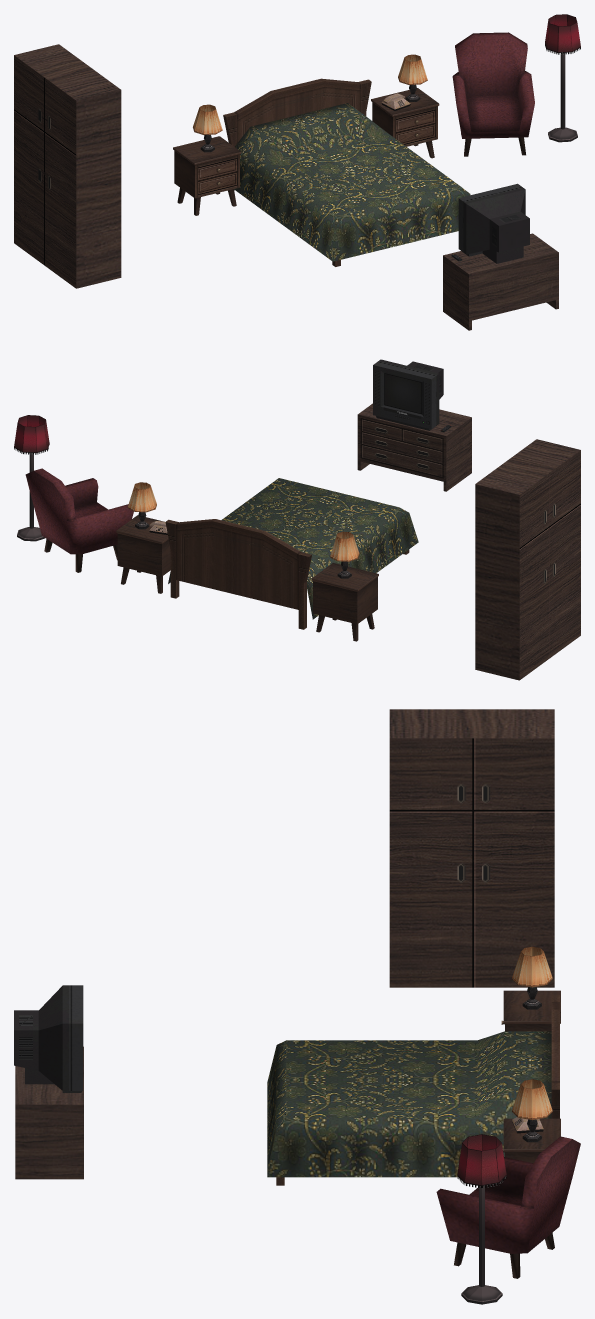
Rendered from motel.obj.
The picture shows the model from 3 angles, top to bottom: view 1: azimuth 30°, elevation 25°; view 2: azimuth 150°, elevation 25°; view 3: azimuth 270°, elevation 25°; orthographic projection. The views are drawn at different scales.
Visible parts, largest first — view 1: Bed, Cube, Chair, Drawers, Television, Nightstand.001, Nightstand, Floor_Lamp, Lamp.001, Lamp; view 2: Cube, Bed, Drawers, Chair, Television, Nightstand.001, Nightstand, Floor_Lamp, Lamp, Lamp.001; view 3: Cube, Bed, Chair, Drawers, Television, Floor_Lamp, Nightstand.001, Nightstand, Lamp, Lamp.001.
Boxes of the visible parts, x1,y1,x2,y2 form: Bed: (223, 78, 470, 266); Cube: (14, 44, 121, 288); Chair: (452, 32, 534, 156); Drawers: (443, 233, 558, 330); Television: (458, 183, 529, 263); Nightstand.001: (173, 136, 241, 215); Nightstand: (371, 88, 439, 158); Floor_Lamp: (545, 14, 580, 142); Lamp.001: (193, 104, 222, 152); Lamp: (398, 54, 427, 101); Cube: (475, 439, 580, 680); Bed: (165, 478, 418, 629); Drawers: (357, 403, 471, 491); Chair: (25, 468, 133, 572); Television: (373, 359, 443, 430); Nightstand.001: (311, 563, 378, 641); Nightstand: (116, 515, 170, 593); Floor_Lamp: (14, 415, 49, 541); Lamp: (127, 482, 156, 529); Lamp.001: (330, 531, 359, 578); Cube: (389, 709, 554, 987); Bed: (267, 995, 559, 1185); Chair: (436, 1136, 580, 1278); Drawers: (15, 1046, 83, 1179); Television: (14, 985, 83, 1092); Floor_Lamp: (457, 1134, 506, 1304); Nightstand.001: (501, 990, 560, 1031); Nightstand: (502, 1118, 560, 1163); Lamp: (512, 1079, 552, 1142); Lamp.001: (512, 946, 552, 1009).
Size of the model in its own units: 5.98 by 2 by 4.12.
9 materials, 9 textured.
